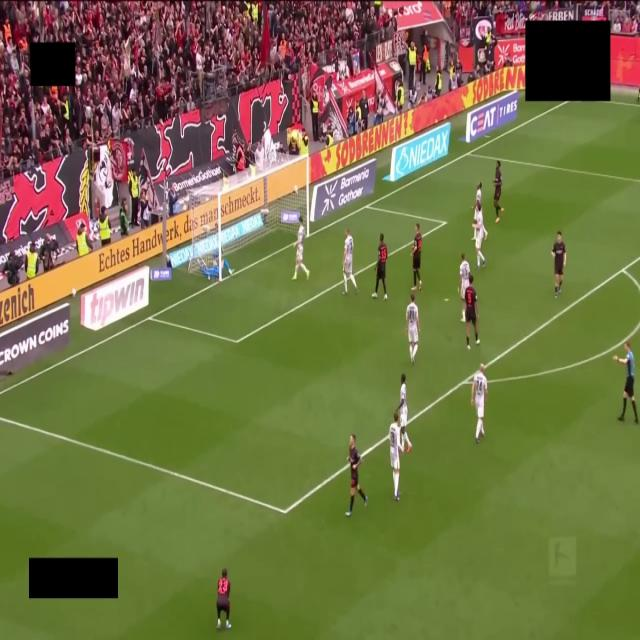player: (345, 435, 367, 516), (471, 364, 487, 443), (389, 413, 403, 500), (464, 275, 479, 349), (397, 374, 411, 452), (292, 216, 309, 279), (405, 293, 419, 364), (372, 234, 387, 300), (343, 229, 357, 295), (552, 232, 566, 297), (217, 569, 230, 629), (473, 204, 485, 268), (459, 254, 470, 322), (412, 224, 422, 290), (210, 252, 232, 279), (494, 161, 503, 223), (473, 183, 481, 222)
referee: (614, 342, 638, 423)
